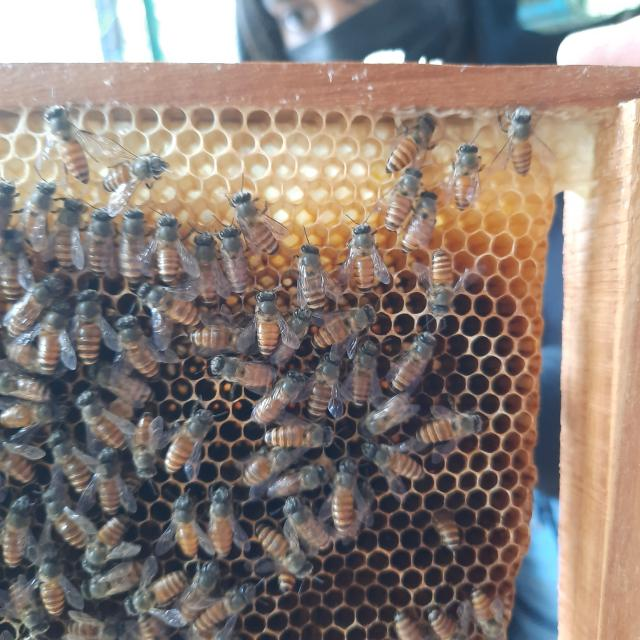honeybee: (42, 102, 96, 188), (379, 96, 443, 162), (255, 523, 313, 594), (161, 408, 218, 474), (195, 584, 259, 640), (499, 104, 543, 183), (234, 183, 282, 254), (278, 498, 329, 564), (1, 276, 68, 326), (243, 376, 304, 428), (99, 152, 178, 192), (210, 348, 288, 387), (163, 487, 203, 563), (77, 390, 129, 448), (140, 280, 208, 324), (378, 166, 425, 229), (177, 561, 224, 624), (0, 493, 40, 567), (204, 487, 245, 559), (298, 236, 336, 312), (392, 327, 438, 389), (132, 565, 188, 615), (344, 215, 382, 288), (261, 420, 347, 452), (330, 459, 363, 542), (128, 410, 167, 480), (84, 556, 147, 598), (28, 181, 58, 267), (269, 462, 330, 504), (117, 312, 154, 381), (227, 446, 275, 498), (46, 486, 87, 546), (34, 551, 74, 612), (47, 430, 89, 487), (416, 410, 484, 444), (219, 228, 252, 298), (365, 441, 428, 477), (96, 448, 130, 514), (446, 138, 477, 210), (351, 330, 381, 404), (423, 245, 456, 312), (86, 202, 115, 278), (6, 573, 40, 637), (321, 303, 378, 341), (308, 351, 340, 418), (76, 292, 106, 363), (52, 195, 80, 270), (0, 435, 40, 487), (467, 590, 508, 640), (121, 209, 148, 284), (403, 193, 437, 250), (86, 521, 129, 566), (0, 228, 26, 301), (256, 290, 285, 354), (195, 227, 222, 294), (37, 309, 65, 372), (184, 323, 244, 351), (60, 610, 116, 640), (0, 373, 56, 401), (159, 216, 181, 286), (437, 508, 469, 556), (0, 405, 56, 429), (386, 609, 421, 640), (0, 181, 19, 237), (432, 611, 462, 640)
